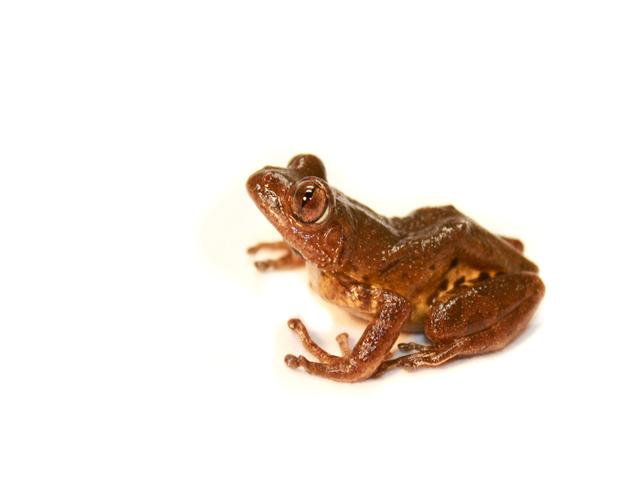frog: (194, 126, 597, 391)
